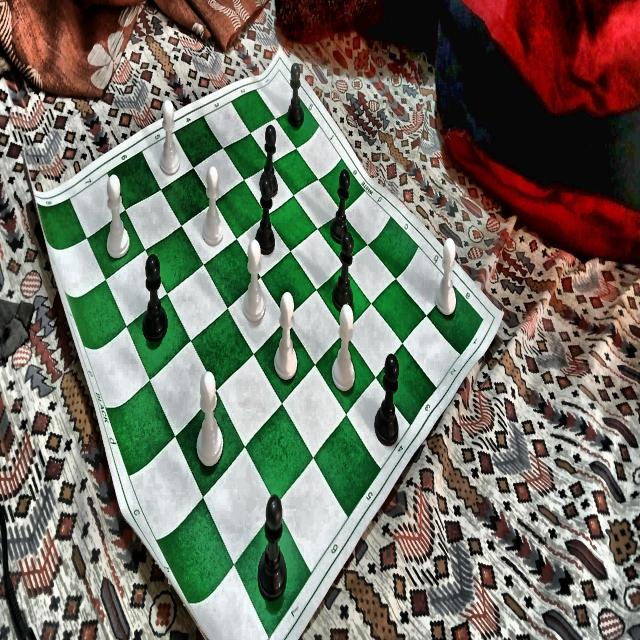BlackPawn: (258, 495, 286, 600), (140, 252, 170, 342), (375, 349, 399, 454), (328, 163, 352, 249), (333, 225, 355, 316), (254, 176, 277, 258), (284, 61, 308, 138), (259, 121, 280, 197)
WhitePawn: (192, 368, 225, 472), (332, 302, 358, 398), (273, 289, 298, 384), (104, 171, 130, 262), (433, 236, 461, 317), (242, 239, 266, 329), (201, 165, 226, 247), (157, 97, 181, 177)
